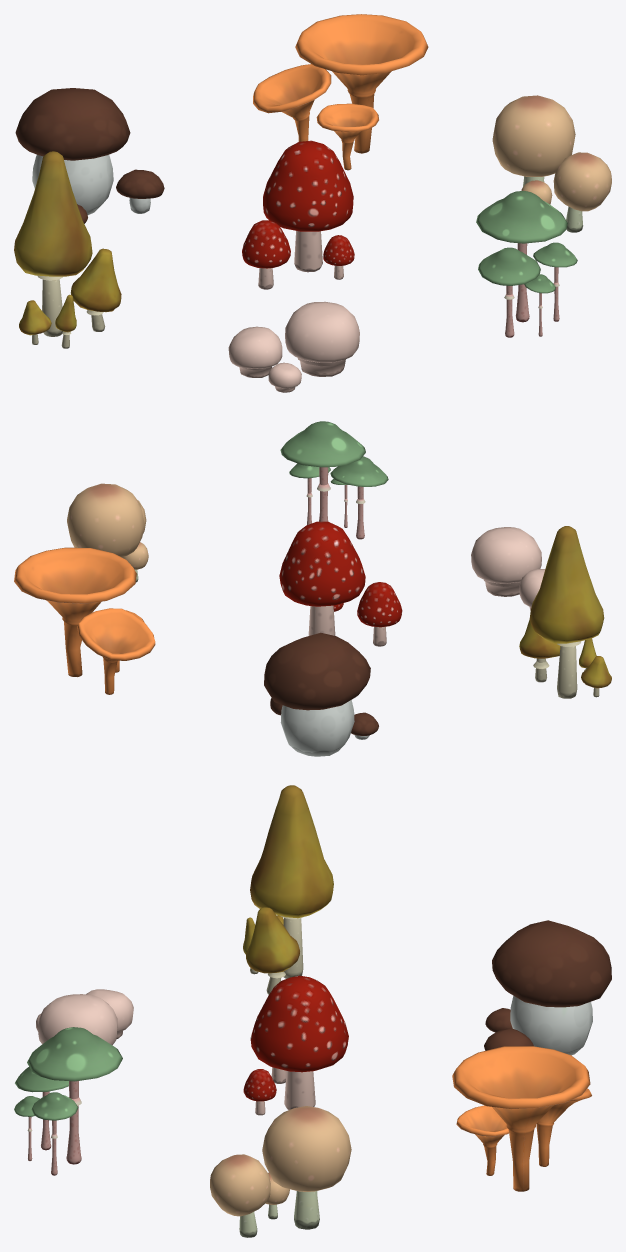
The model's file is mushrooms.glb.
3 renders of one model, top to bottom at view 1: azimuth 30°, elevation 25°; view 2: azimuth 150°, elevation 25°; view 3: azimuth 270°, elevation 25°, orthographic. The views are drawn at different scales.
Visible parts, largest first — view 1: Object_7, Object_8, Object_4, Object_3, Object_6, Object_5, Object_2; view 2: Object_7, Object_3, Object_8, Object_4, Object_5, Object_6, Object_2; view 3: Object_3, Object_7, Object_8, Object_6, Object_4, Object_5, Object_2.
Boxes of the visible parts, left/top/right/bottom form: Object_7: left=253, top=14, right=428, bottom=170; Object_8: left=14, top=151, right=121, bottom=348; Object_4: left=242, top=140, right=354, bottom=289; Object_3: left=15, top=88, right=164, bottom=223; Object_6: left=492, top=95, right=611, bottom=232; Object_5: left=476, top=191, right=577, bottom=337; Object_2: left=228, top=301, right=359, bottom=392; Object_7: left=14, top=547, right=155, bottom=694; Object_3: left=264, top=632, right=378, bottom=756; Object_8: left=519, top=526, right=611, bottom=698; Object_4: left=279, top=521, right=402, bottom=646; Object_5: left=280, top=421, right=388, bottom=539; Object_6: left=67, top=483, right=148, bottom=582; Object_2: left=471, top=527, right=545, bottom=610; Object_3: left=484, top=920, right=611, bottom=1055; Object_7: left=452, top=1046, right=591, bottom=1191; Object_8: left=243, top=785, right=333, bottom=994; Object_6: left=210, top=1106, right=351, bottom=1237; Object_4: left=243, top=975, right=348, bottom=1115; Object_5: left=14, top=1027, right=122, bottom=1175; Object_2: left=36, top=989, right=133, bottom=1045.
Size of the model in its own units: 3.45 by 1.07 by 3.01.
7 materials, 7 textured.
